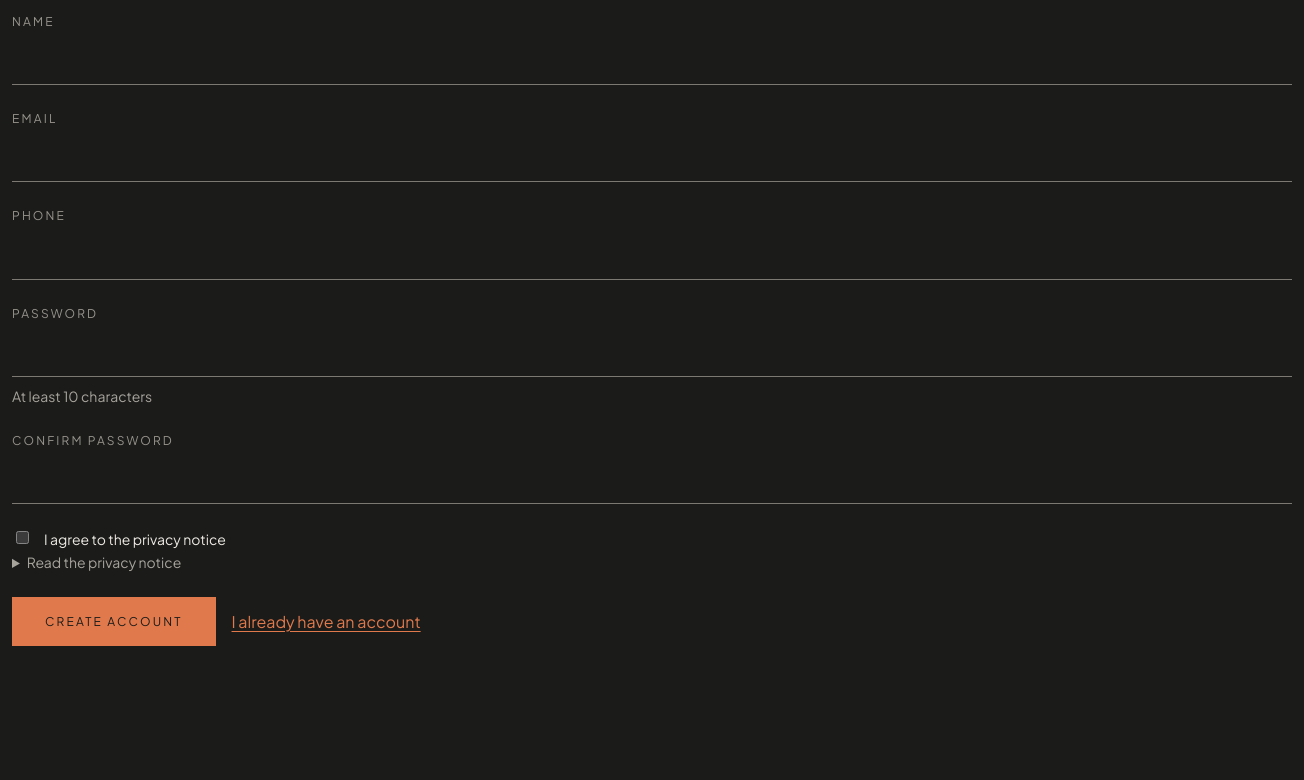
RegisterForm › checks every field on submit and focuses the first problem
The image size is (1304, 780).
Click the button "Create account". click: (114, 622)
box: [12, 597, 216, 646]
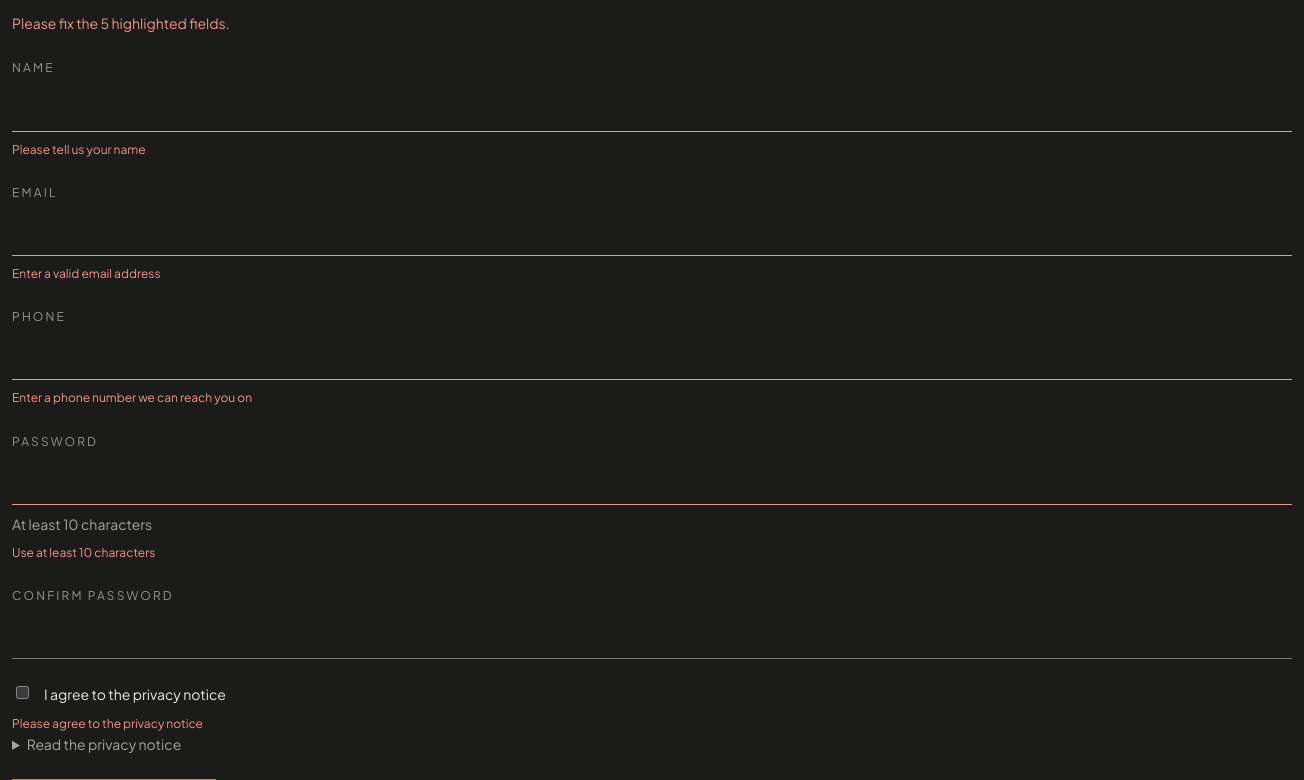
Check: the text "Please fix the 5 highlighted fields." is shown, box [12, 14, 230, 32]
Check: the text "Please tell us your name" is shown, box [12, 142, 146, 157]
Check: the text "Please agree to the privacy notice" is shown, box [12, 716, 203, 731]
